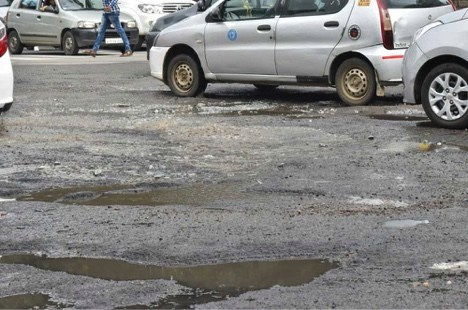pothole: (6, 234, 364, 290), (28, 160, 278, 215), (384, 135, 453, 159)
